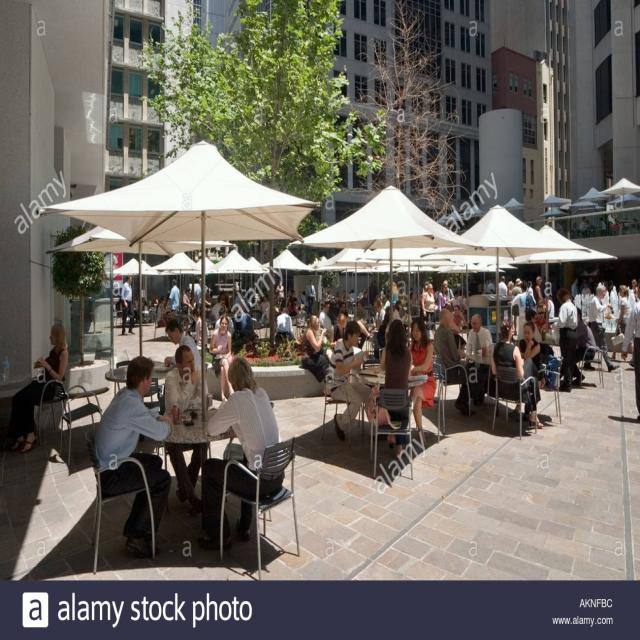body: (90, 353, 176, 560), (196, 356, 286, 552), (7, 320, 70, 457), (162, 344, 210, 514), (328, 318, 385, 442), (489, 316, 544, 429), (432, 307, 478, 418), (380, 319, 412, 461), (406, 315, 436, 448), (321, 280, 421, 319), (582, 282, 619, 373), (464, 312, 495, 408), (551, 288, 579, 393), (620, 282, 640, 423), (299, 315, 332, 398), (559, 305, 590, 386), (208, 314, 235, 402), (164, 319, 202, 374), (608, 284, 635, 361), (516, 320, 542, 389), (508, 281, 536, 340), (204, 282, 257, 310), (548, 214, 592, 239), (534, 304, 555, 355), (120, 272, 136, 337), (516, 307, 543, 344), (186, 277, 202, 338), (421, 282, 438, 334), (353, 299, 370, 350), (190, 306, 209, 351), (451, 303, 468, 353), (329, 312, 348, 352), (512, 277, 524, 336), (275, 307, 295, 342), (213, 306, 234, 338), (181, 286, 194, 337), (368, 299, 386, 334), (234, 307, 254, 335), (165, 278, 181, 312), (304, 278, 318, 316), (317, 299, 333, 332), (256, 291, 270, 328), (498, 275, 508, 323), (582, 275, 616, 289), (134, 295, 150, 324), (438, 281, 452, 314), (533, 274, 548, 304), (442, 279, 456, 311), (212, 294, 228, 322), (606, 209, 622, 236), (479, 274, 499, 295), (297, 290, 311, 319), (630, 276, 640, 314), (623, 211, 639, 234), (506, 280, 514, 323), (275, 280, 285, 309), (455, 285, 468, 307), (274, 296, 284, 324), (608, 414, 639, 423), (594, 216, 606, 238), (546, 294, 556, 318), (336, 301, 349, 319), (579, 215, 589, 238), (539, 296, 549, 317), (155, 295, 167, 312), (286, 299, 298, 316), (571, 277, 580, 299), (150, 293, 158, 316), (286, 290, 296, 308), (580, 281, 591, 297), (525, 280, 534, 296)
